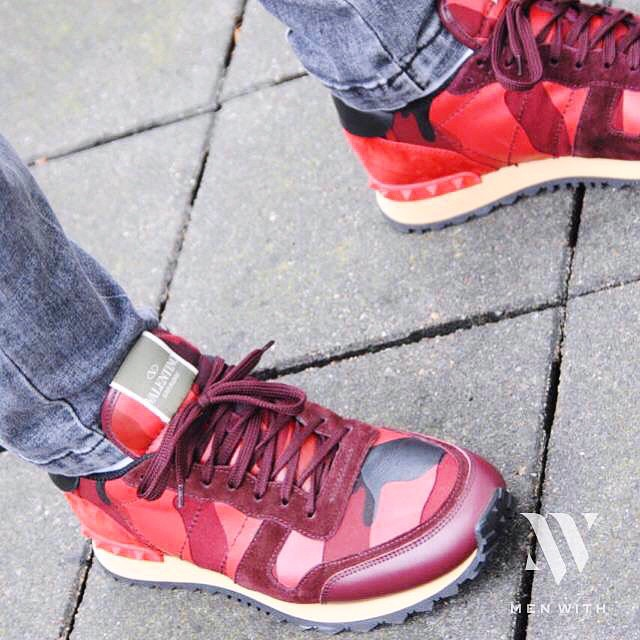sneaker: (24, 302, 533, 639), (298, 1, 640, 249)
